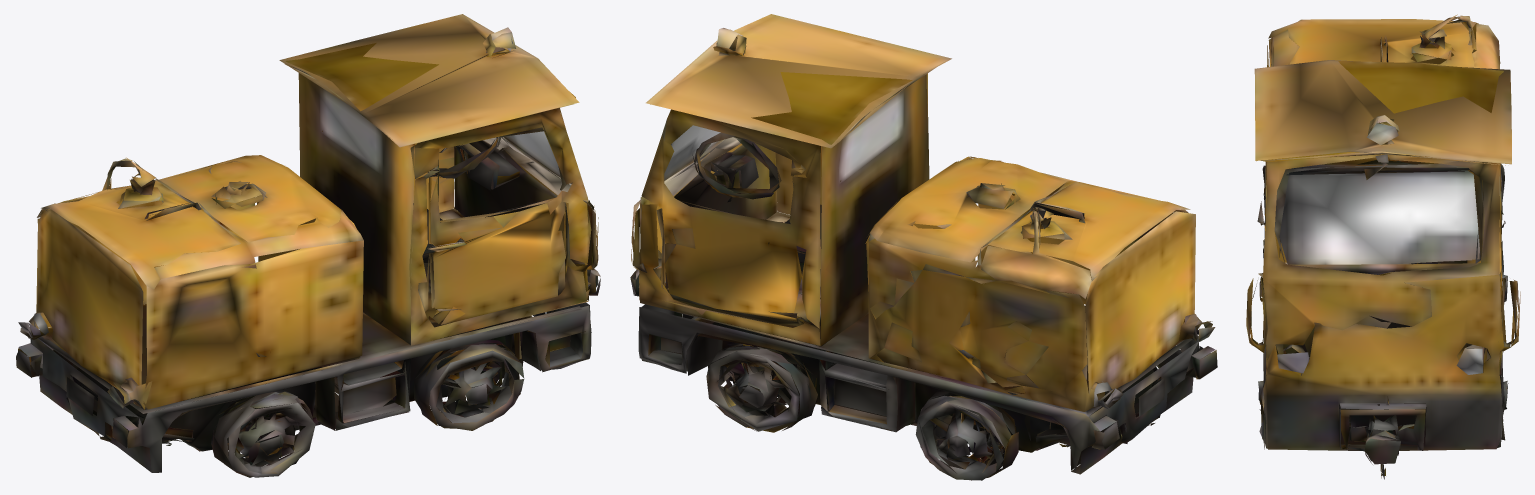
The model's file is locomotora_bat.movil.glb.
The picture shows the model from 3 angles, left to right: view 1: azimuth 30°, elevation 25°; view 2: azimuth 150°, elevation 25°; view 3: azimuth 270°, elevation 25°; orthographic projection. The views are drawn at different scales.
Parts seen in each view (by area): view 1: geometry_0; view 2: geometry_0; view 3: geometry_0.
Part boxes in pixels (bbox=[...]): geometry_0: bbox=[16, 14, 600, 477]; geometry_0: bbox=[630, 14, 1217, 480]; geometry_0: bbox=[1246, 14, 1520, 479].
Bounding box in the file's own units: 2.58 × 1.6 × 1.1.
1 material, 1 textured.
